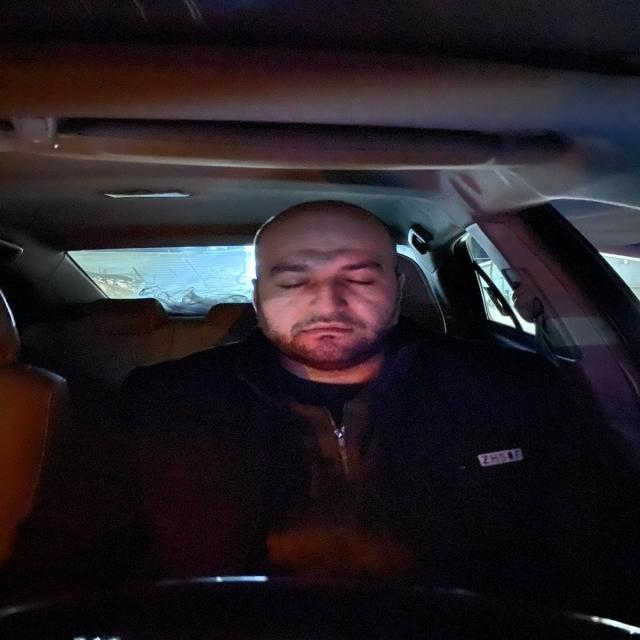drowsy: (250, 193, 420, 372)
